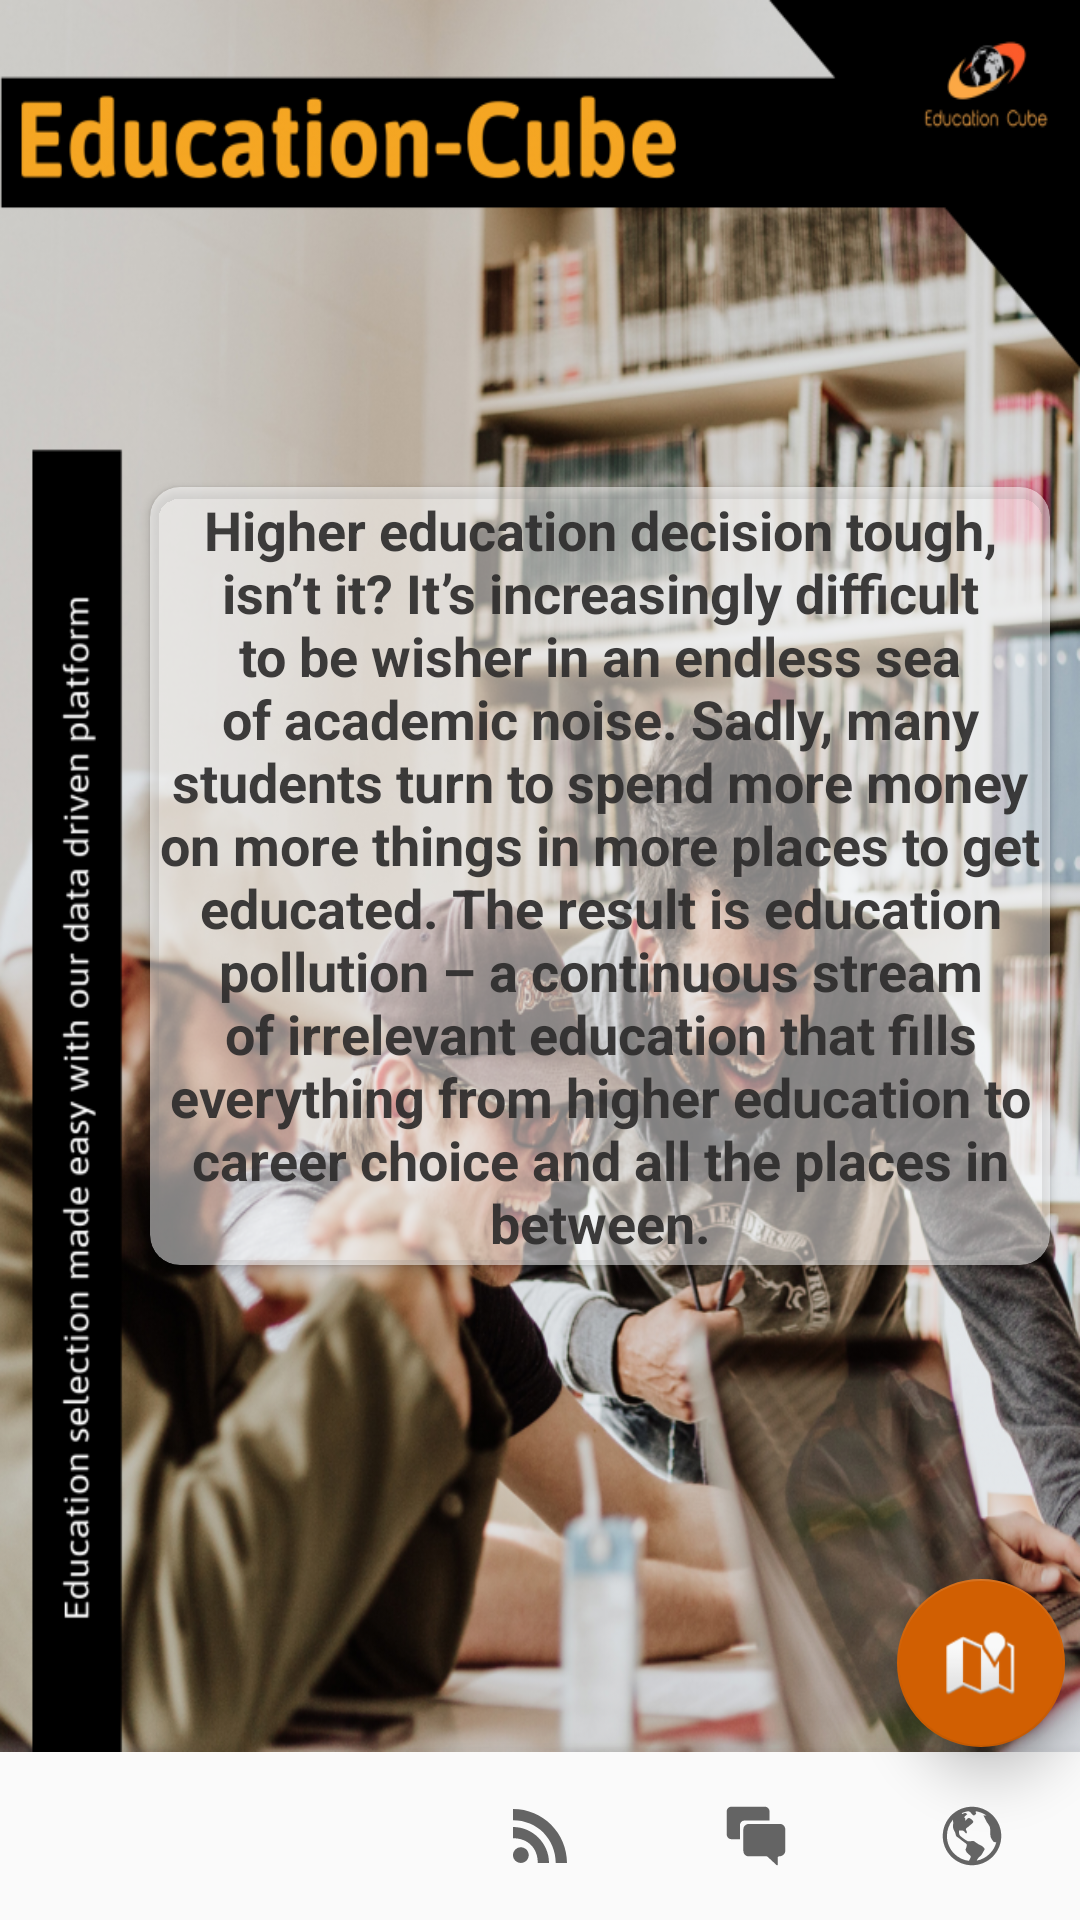

Named icons in this screenshot (1080w x 1920h) and their centers, (x,y):
map: (981,1663)
